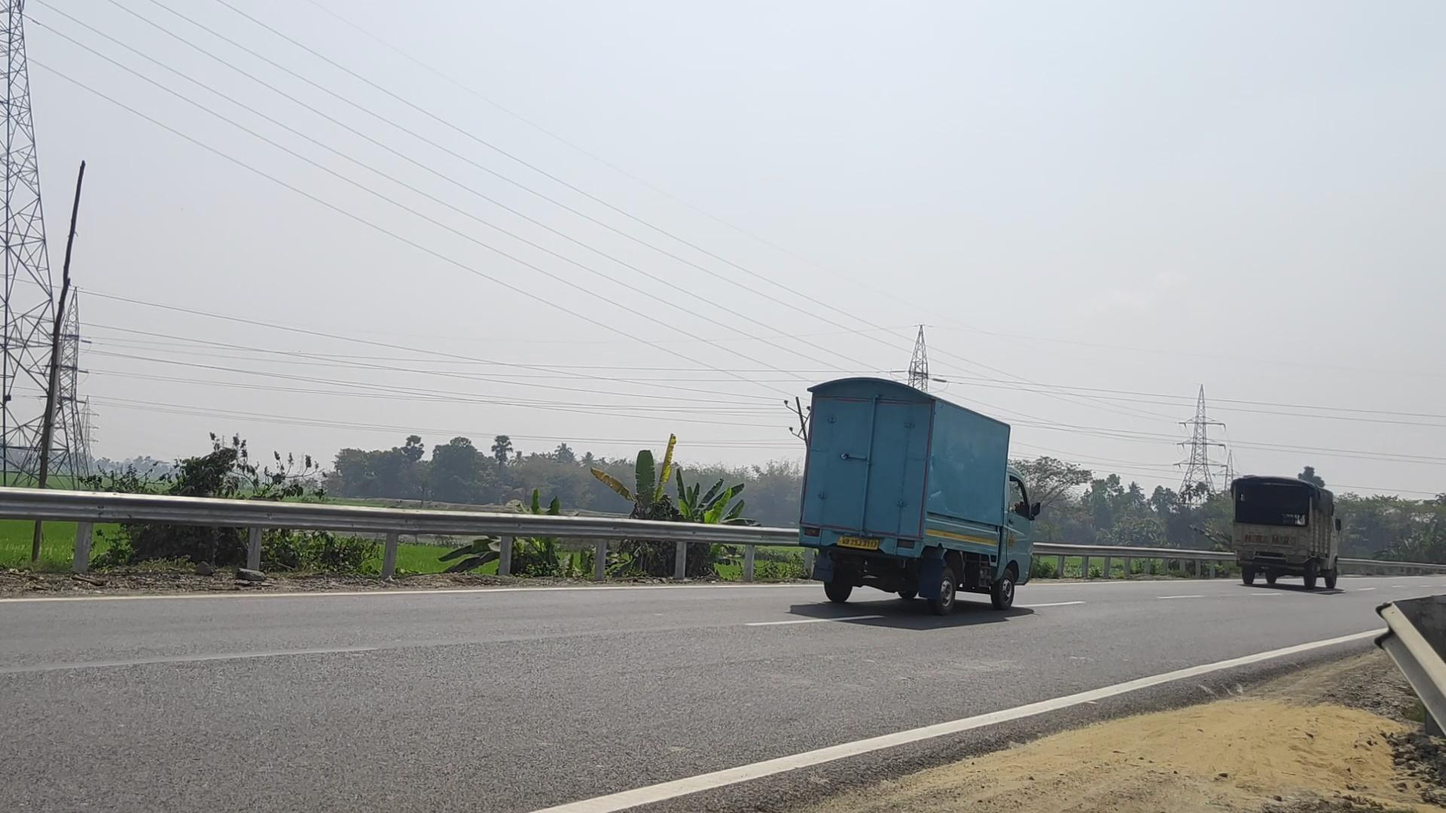truck: (1230, 475, 1341, 590)
van: (798, 376, 1042, 615)
